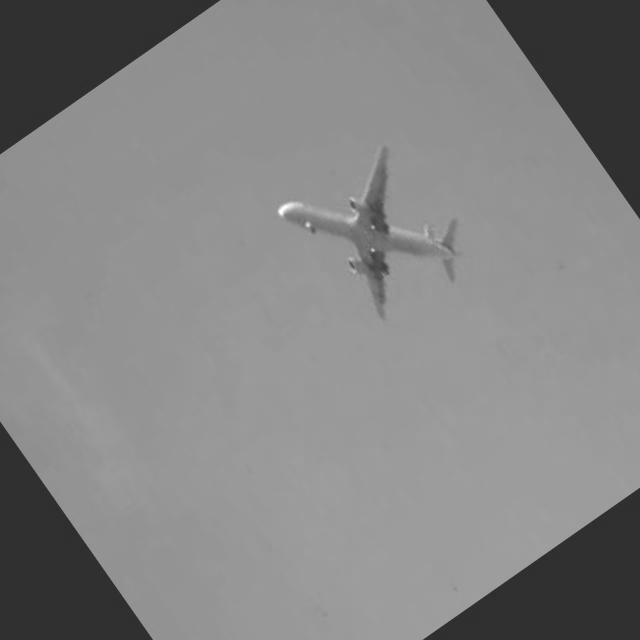aeroplane: (269, 123, 484, 344)
